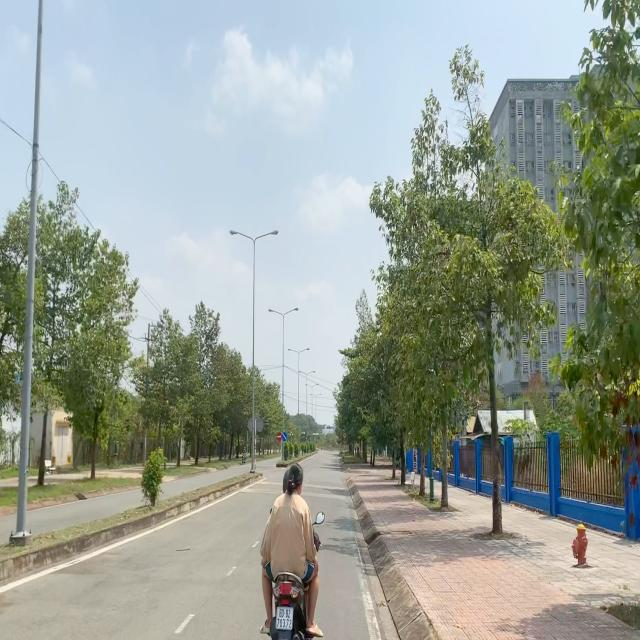Cam nguoc chieu: (277, 432, 282, 441)
Hieu lenh: (282, 432, 287, 441)
